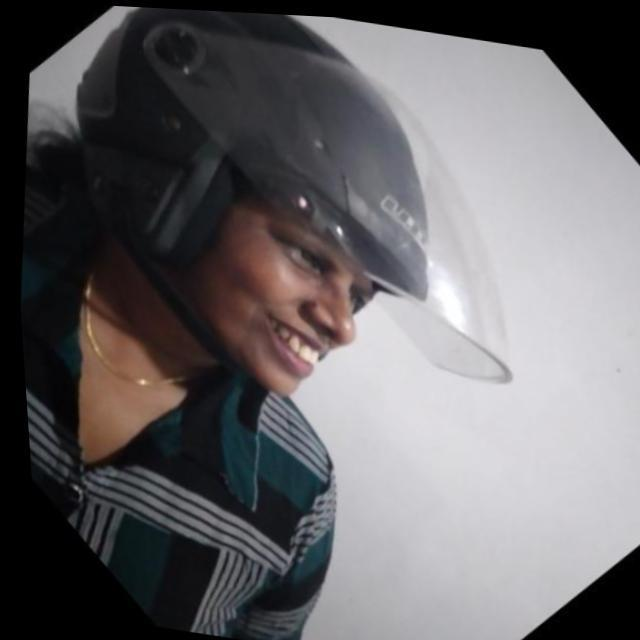with_helmet: (71, 0, 524, 392)
